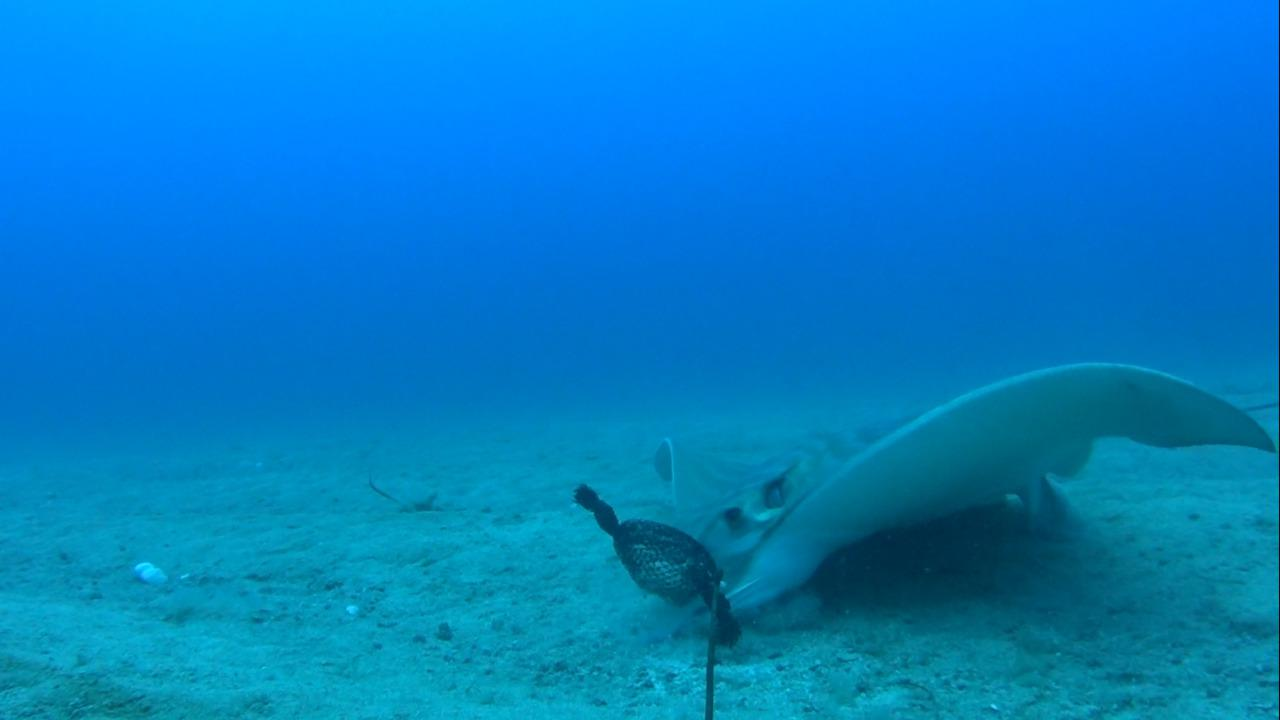myliobatis: (647, 355, 1279, 644)
